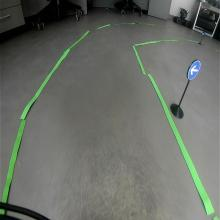left: (186, 58, 201, 80)
